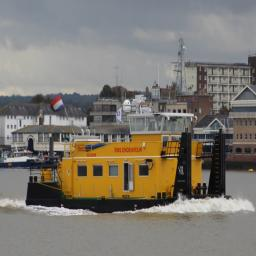tugboat: (25, 84, 235, 220)
